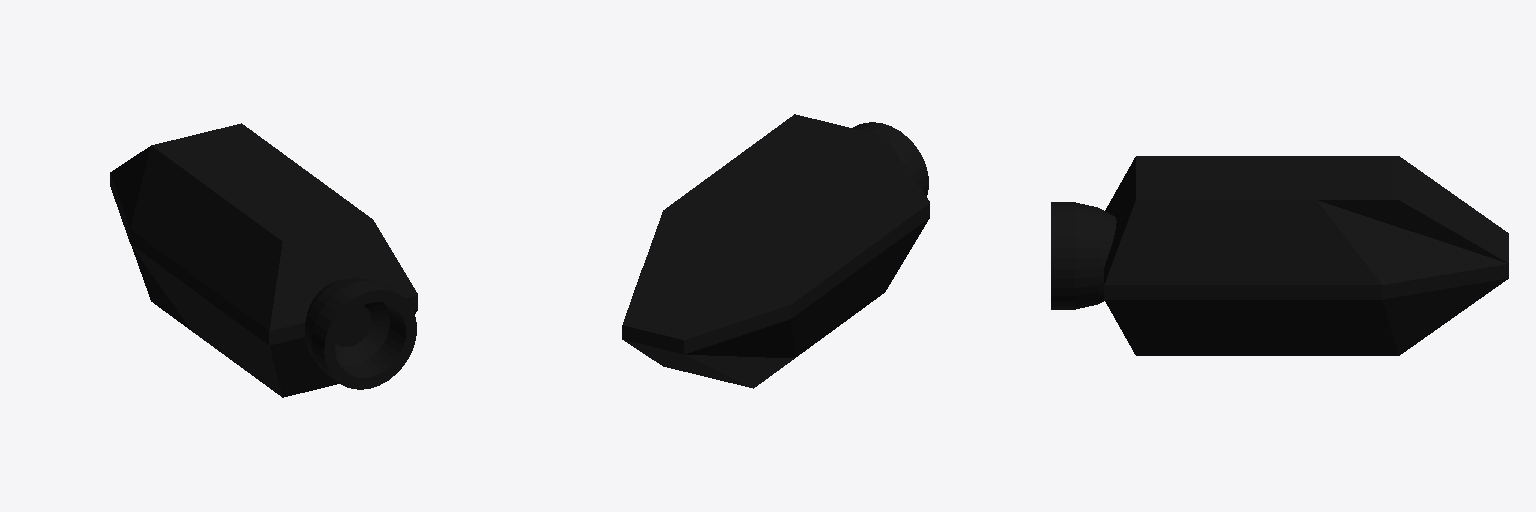
Rendered from resonante.obj.
3 renders of one model, left to right at view 1: azimuth 30°, elevation 25°; view 2: azimuth 150°, elevation 25°; view 3: azimuth 270°, elevation 25°, orthographic.
Parts seen in each view (by area): view 1: Cube_Cube.001; view 2: Cube_Cube.001; view 3: Cube_Cube.001.
Boxes of the visible parts, <box> form: Cube_Cube.001: <box>110,123,417,397</box>; Cube_Cube.001: <box>622,114,929,388</box>; Cube_Cube.001: <box>1051,156,1508,355</box>.
Size of the model in its own units: 2 by 2 by 5.33.